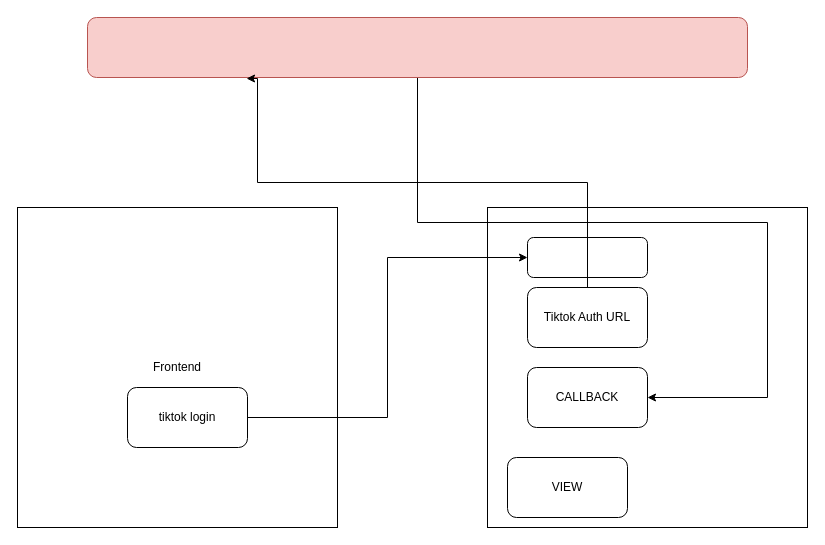
Some shapes in this 825 by 545 pixel diagram are drawn without their labels. Here are the shapes that lost their labels. From the top down, the centre of each, then its label:
At [417,47]: "TIKTOK".
At [587,257]: "/tiktok-login".
